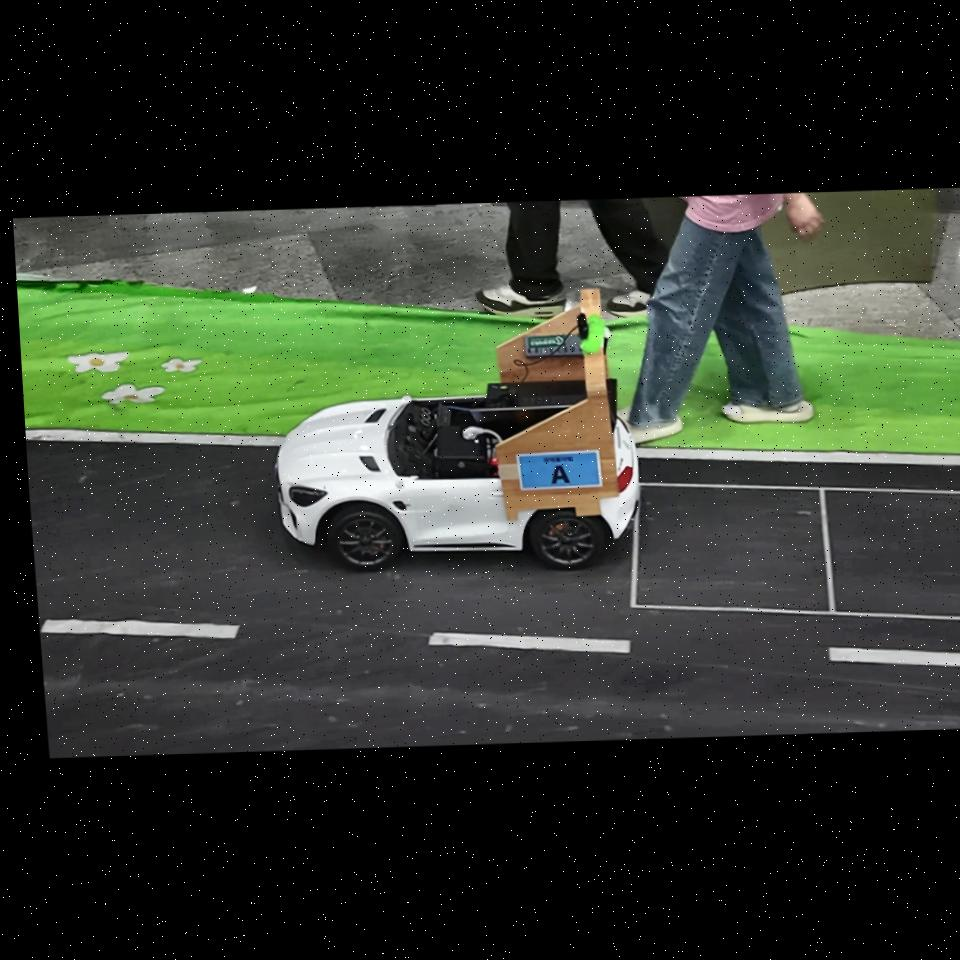broken_line: (428, 632, 631, 654), (40, 619, 239, 639), (829, 648, 960, 667)
